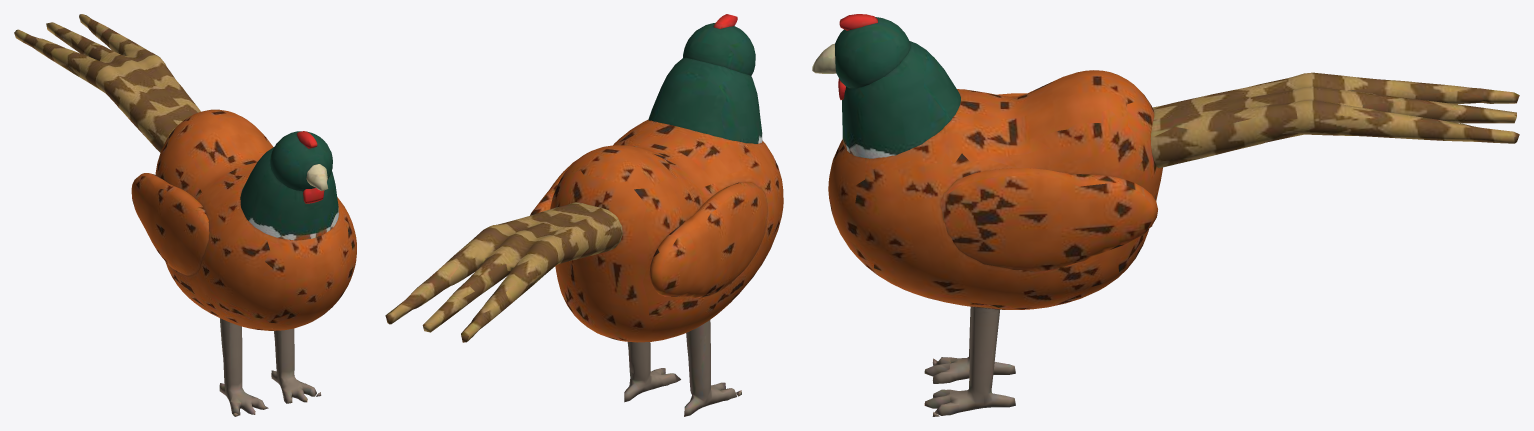
Rendered from animal_pheasant.glb.
The picture shows the model from 3 angles, left to right: view 1: azimuth 30°, elevation 25°; view 2: azimuth 150°, elevation 25°; view 3: azimuth 270°, elevation 25°; orthographic projection. The views are drawn at different scales.
Visible parts, largest first — view 1: animal_pheasant, head, leg0, leg1; view 2: animal_pheasant, head, leg0, leg1; view 3: animal_pheasant, head, leg1, leg0.
Boxes of the visible parts, x1,y1,x2,y2 form: animal_pheasant: (14,14,356,330); head: (270,131,332,203); leg0: (219,318,268,416); leg1: (271,328,321,403); animal_pheasant: (385,57,783,342); head: (683,14,755,75); leg0: (684,320,741,416); leg1: (624,342,680,402); animal_pheasant: (828,41,1519,309); head: (812,14,910,99); leg1: (924,307,1015,416); leg0: (924,306,1015,383).
Bounding box in the file's own units: 0.1313 × 0.2469 × 0.42.
Materials: 1 (1 with a texture image).
